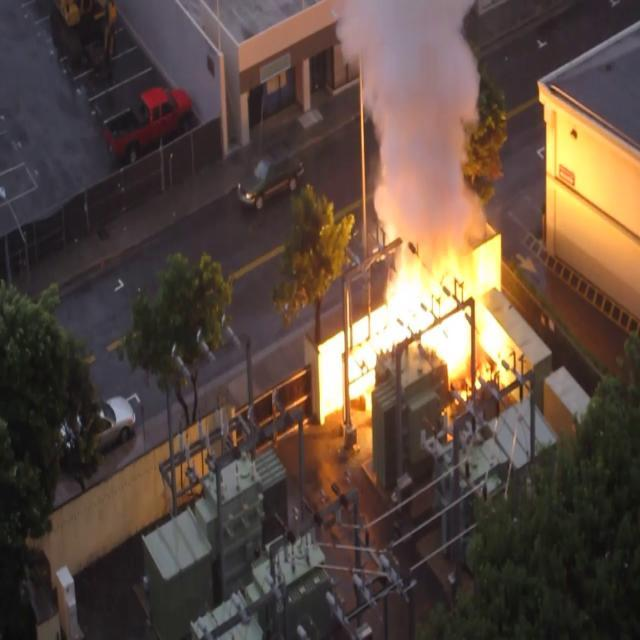Fire: (312, 221, 520, 410)
Smoke: (334, 1, 498, 228)
